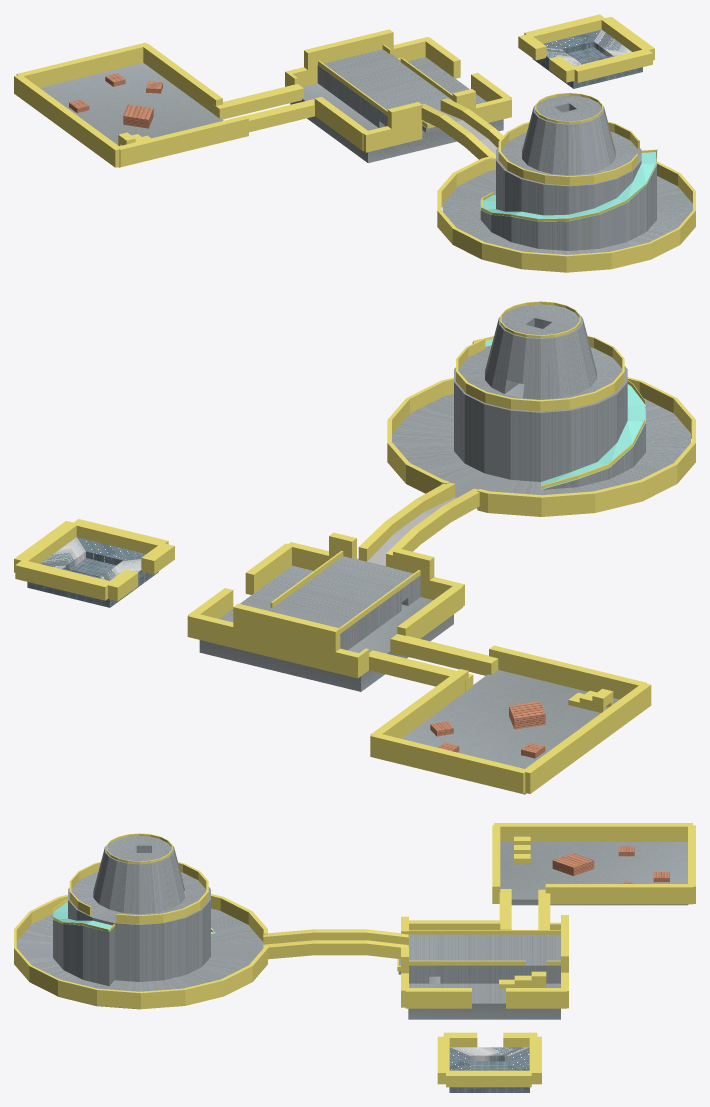
Rendered from gameStage01_final.fbx.
3 views of the same model, one above another, from view 1: azimuth 30°, elevation 25°; view 2: azimuth 150°, elevation 25°; view 3: azimuth 270°, elevation 25° (orthographic). The views are drawn at different scales.
Parts seen in each view (by area): view 1: gameStage01_final; view 2: gameStage01_final; view 3: gameStage01_final.
Part boxes in pixels (box(x1,y1,x2,y2)): gameStage01_final: box(14, 14, 695, 272); gameStage01_final: box(14, 301, 695, 794); gameStage01_final: box(14, 823, 695, 1092).
Size of the model in its own units: 21152 by 24692 by 5510.
7 materials, 7 textured.
